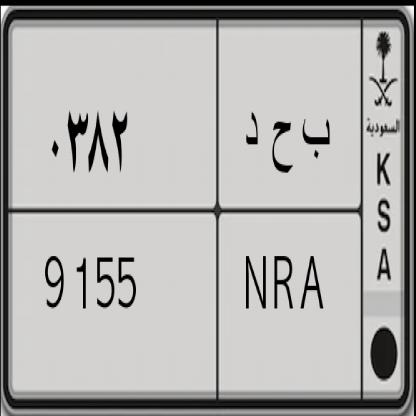english: (23, 219, 366, 393)
